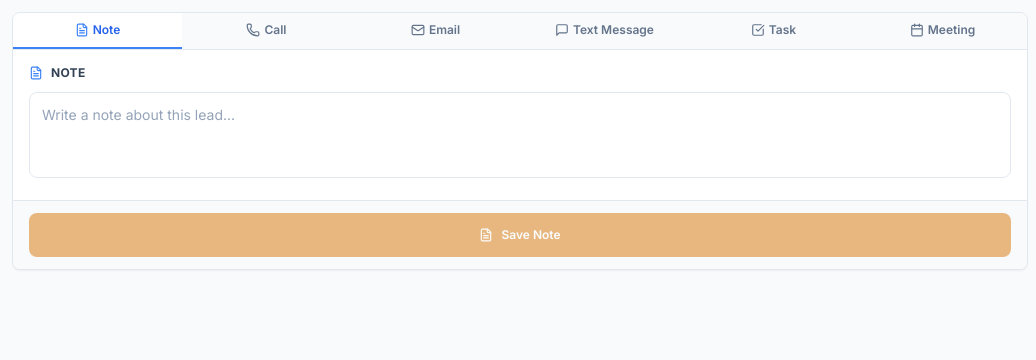
ActivityComposer — Text Message tab › shows a blocked-sending explanation and the PR #40 consent control when consent is missing
Click the button "Text Message": click(604, 31) [520,13,689,49]
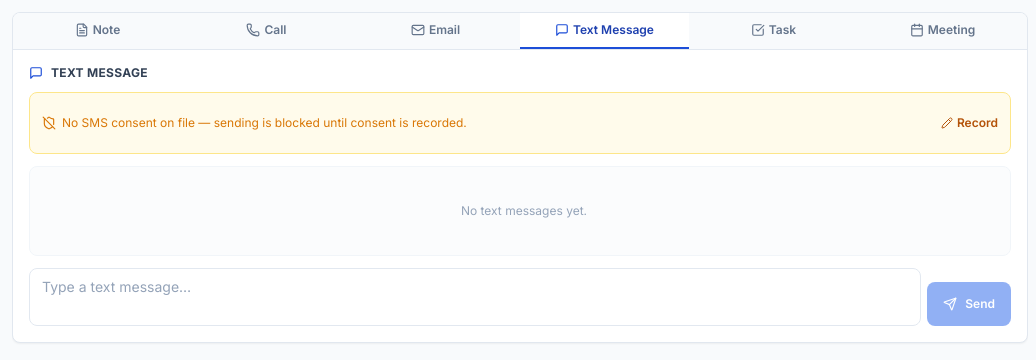
Result: the text "No SMS consent on file" is shown at [62,115,467,130]
Result: the button "Record" is shown at [941,101,998,145]
